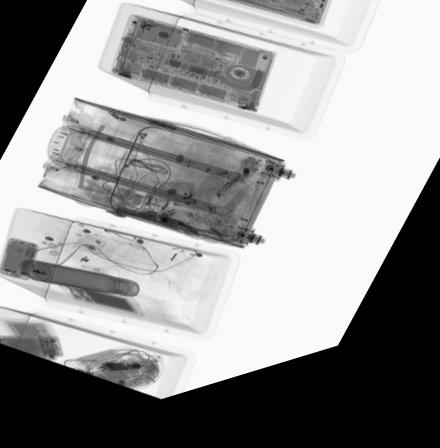Powerbank: (63, 285, 138, 323)
